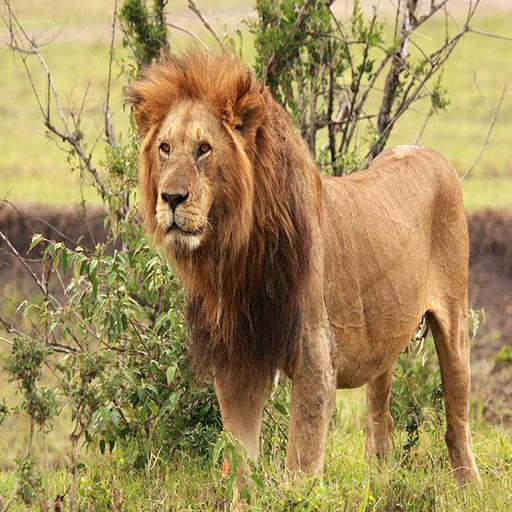Lion: (122, 42, 489, 500)
